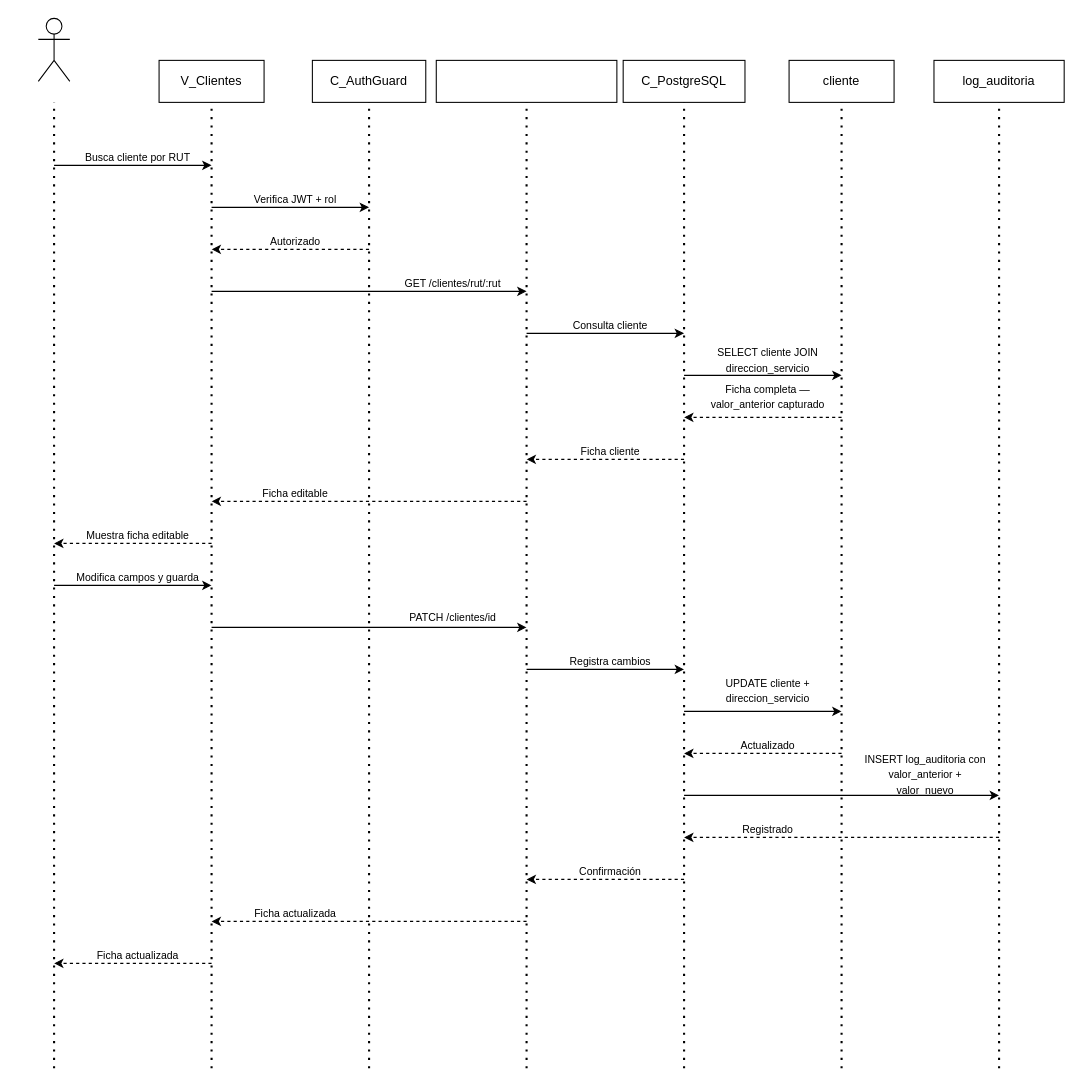
Image size: 1083x1089. Some labels were removed from this diagram. The centre of each missing label's shape, as x and y in pixels:
C_ClienteController: the point at 526,80
Jefe Técnico: the point at 53,49
